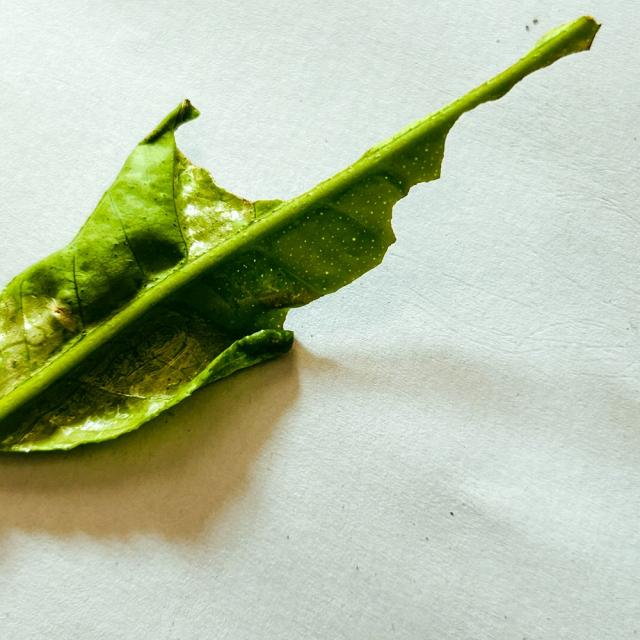Deficiency Leaf: (176, 93, 374, 200), (284, 276, 367, 339), (392, 183, 433, 234)
Lemon: (0, 16, 599, 450)
